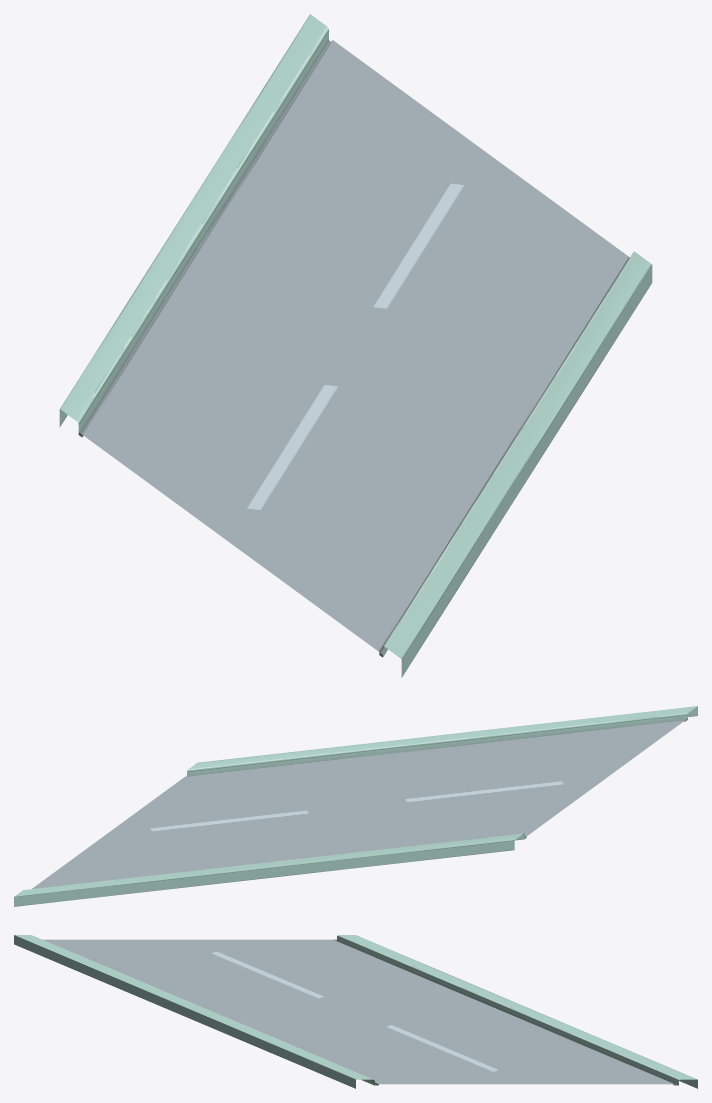
Rendered from LRoad.fbx.
3 renders of one model, top to bottom at view 1: azimuth 30°, elevation 25°; view 2: azimuth 150°, elevation 25°; view 3: azimuth 270°, elevation 25°, orthographic. The views are drawn at different scales.
Parts seen in each view (by area): view 1: pPlane15; view 2: pPlane15; view 3: pPlane15.
Boxes of the visible parts, x1=… form: pPlane15: x1=59, y1=14, x2=652, y2=677; pPlane15: x1=14, y1=706, x2=697, y2=906; pPlane15: x1=14, y1=935, x2=697, y2=1088.
Size of the model in its own units: 2 by 0.06 by 4.
1 material, 1 textured.
